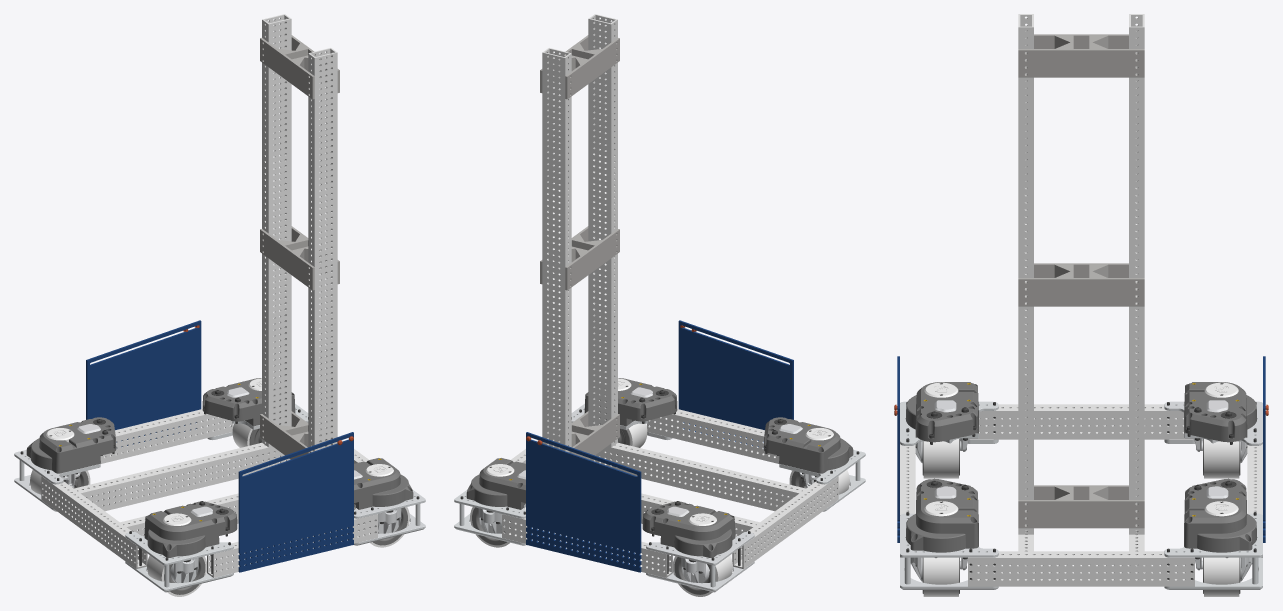
The picture shows the model from 3 angles, left to right: view 1: azimuth 30°, elevation 25°; view 2: azimuth 150°, elevation 25°; view 3: azimuth 270°, elevation 25°; orthographic projection. The views are drawn at different scales.
Parts seen in each view (by area): view 1: Sólido1 (×20); view 2: Sólido1 (×20); view 3: Sólido1 (×24).
Boxes of the visible parts, x1,y1,x2,y2 form: Sólido1 (×20): (14, 14, 425, 596); Sólido1 (×20): (454, 14, 865, 596); Sólido1 (×24): (897, 14, 1265, 596).
Bounding box in the file's own units: 0.5842 × 0.9952 × 0.6022.
